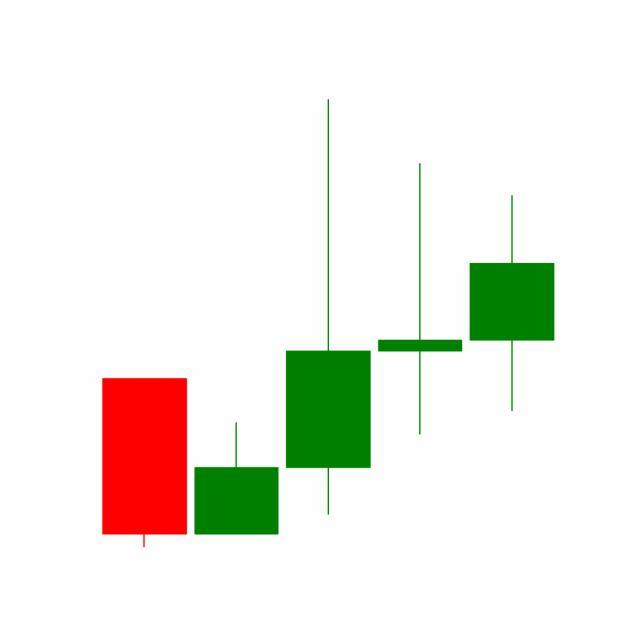Spinning Top: (374, 161, 468, 439)
